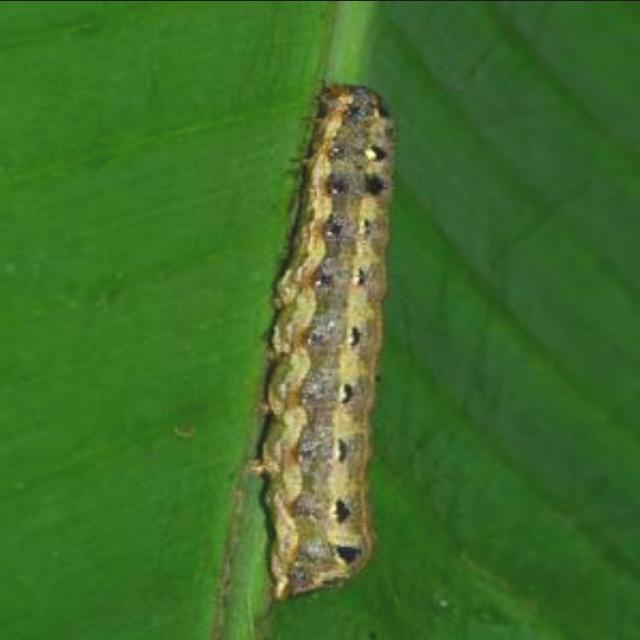Tobacco cutworm: (178, 35, 460, 611)
